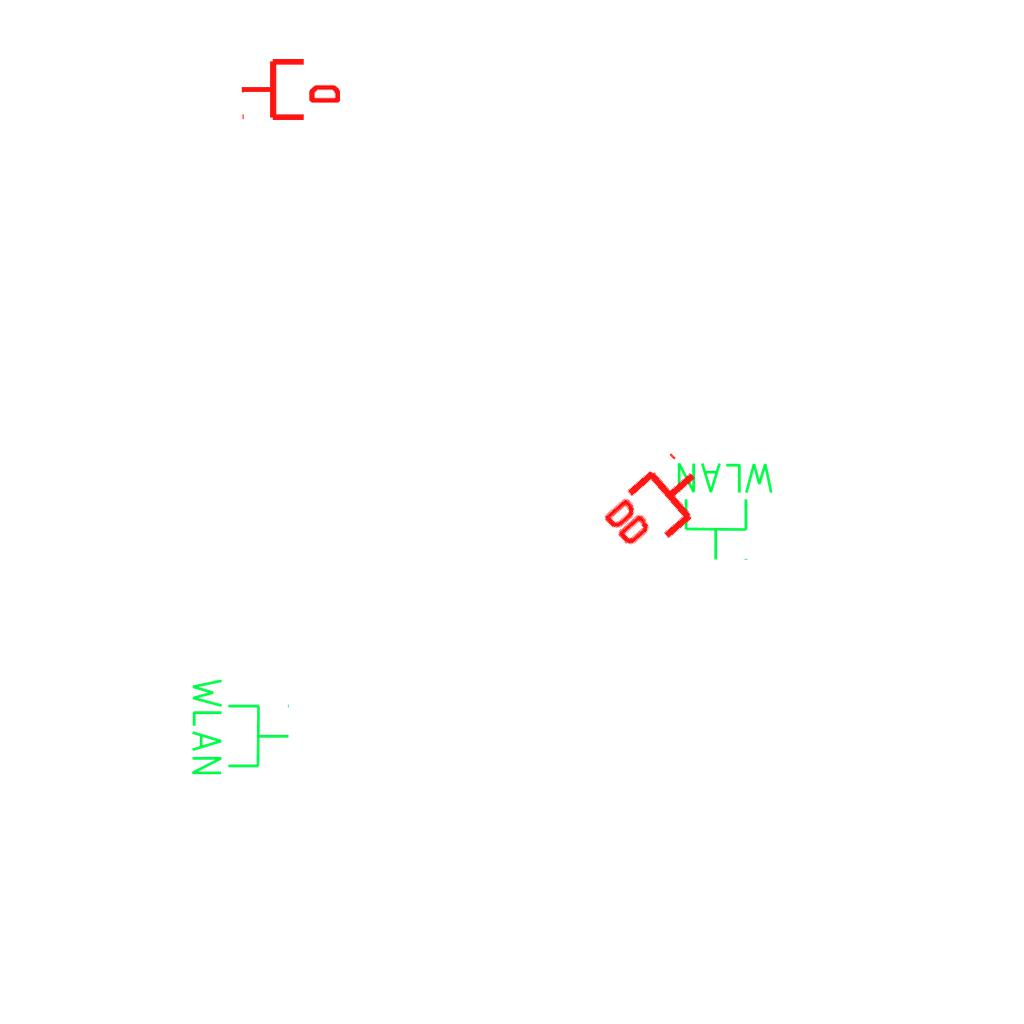Datenanschluss_einfach: (240, 55, 340, 124)
Datenanschluss_zweifach: (595, 448, 720, 569)
WLAN: (673, 459, 778, 563), (188, 674, 292, 779)
